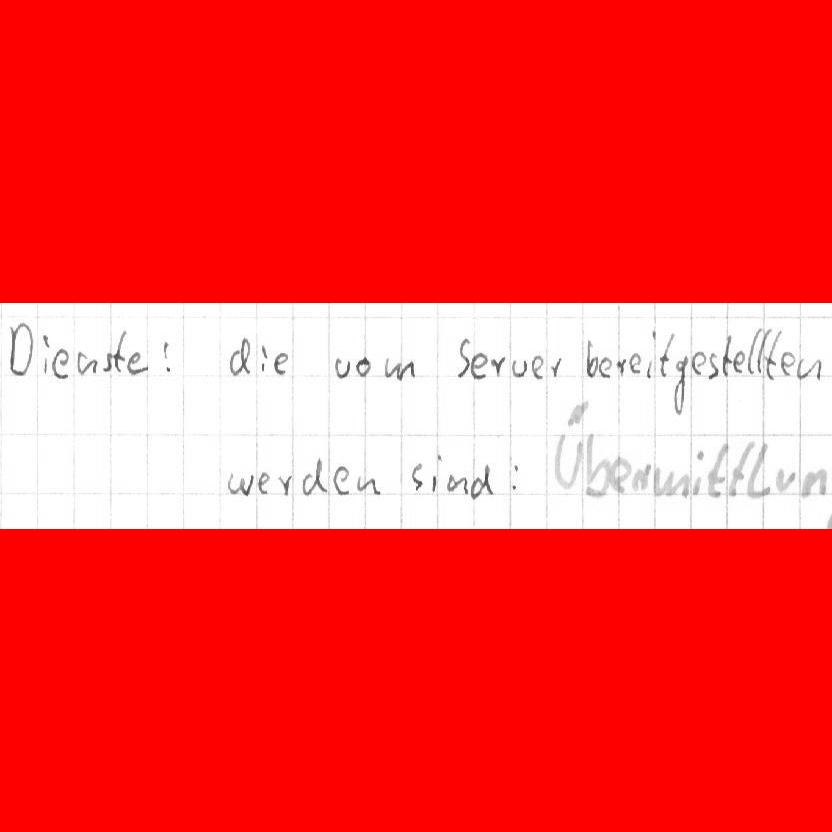Char: (551, 399, 590, 491), (584, 431, 610, 499), (7, 320, 35, 379), (746, 441, 773, 498), (653, 465, 690, 496), (671, 353, 689, 416), (301, 454, 327, 496), (229, 335, 253, 377), (709, 444, 727, 496), (608, 455, 631, 495), (471, 463, 495, 499), (627, 460, 651, 495), (385, 356, 417, 382), (688, 450, 705, 498), (763, 329, 778, 378), (111, 330, 128, 373), (658, 333, 674, 377), (225, 470, 251, 497), (455, 337, 471, 379), (356, 472, 382, 497), (51, 346, 70, 379), (76, 349, 99, 376), (332, 463, 351, 495), (797, 357, 822, 380), (749, 331, 762, 374), (125, 350, 147, 375), (645, 331, 657, 376), (721, 333, 733, 378), (584, 339, 598, 377), (778, 349, 796, 378), (430, 451, 442, 493), (408, 463, 425, 491), (273, 350, 291, 376), (447, 472, 468, 494), (471, 351, 488, 378), (355, 353, 373, 378), (530, 352, 546, 380), (160, 340, 172, 376), (256, 470, 273, 495), (489, 353, 506, 378), (691, 350, 706, 378), (41, 334, 51, 376), (277, 472, 294, 496), (333, 358, 351, 380), (627, 352, 643, 376), (258, 343, 270, 375), (732, 348, 746, 375), (549, 353, 564, 378), (509, 462, 521, 492), (512, 358, 528, 380), (707, 351, 719, 380), (599, 358, 613, 378), (101, 351, 113, 372), (615, 357, 626, 377)
